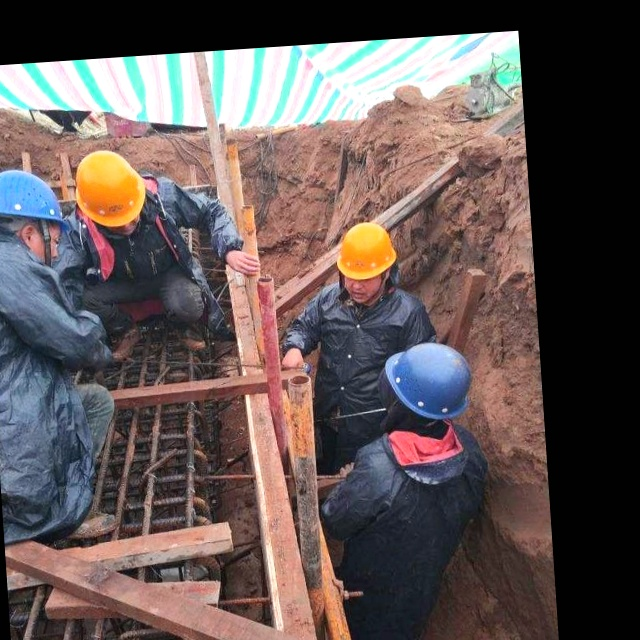Con_Casco: (73, 148, 146, 231), (331, 220, 399, 303)
